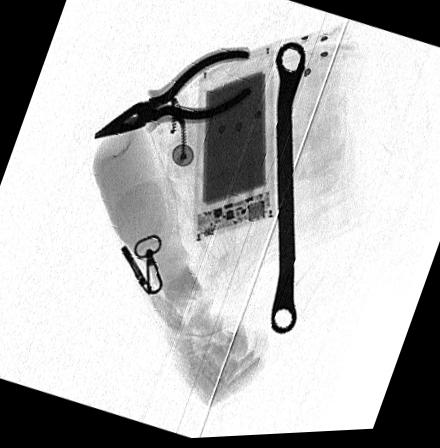Pliers: (92, 51, 252, 140)
Powerbank: (195, 48, 279, 243)
Wrench: (269, 43, 305, 338)
